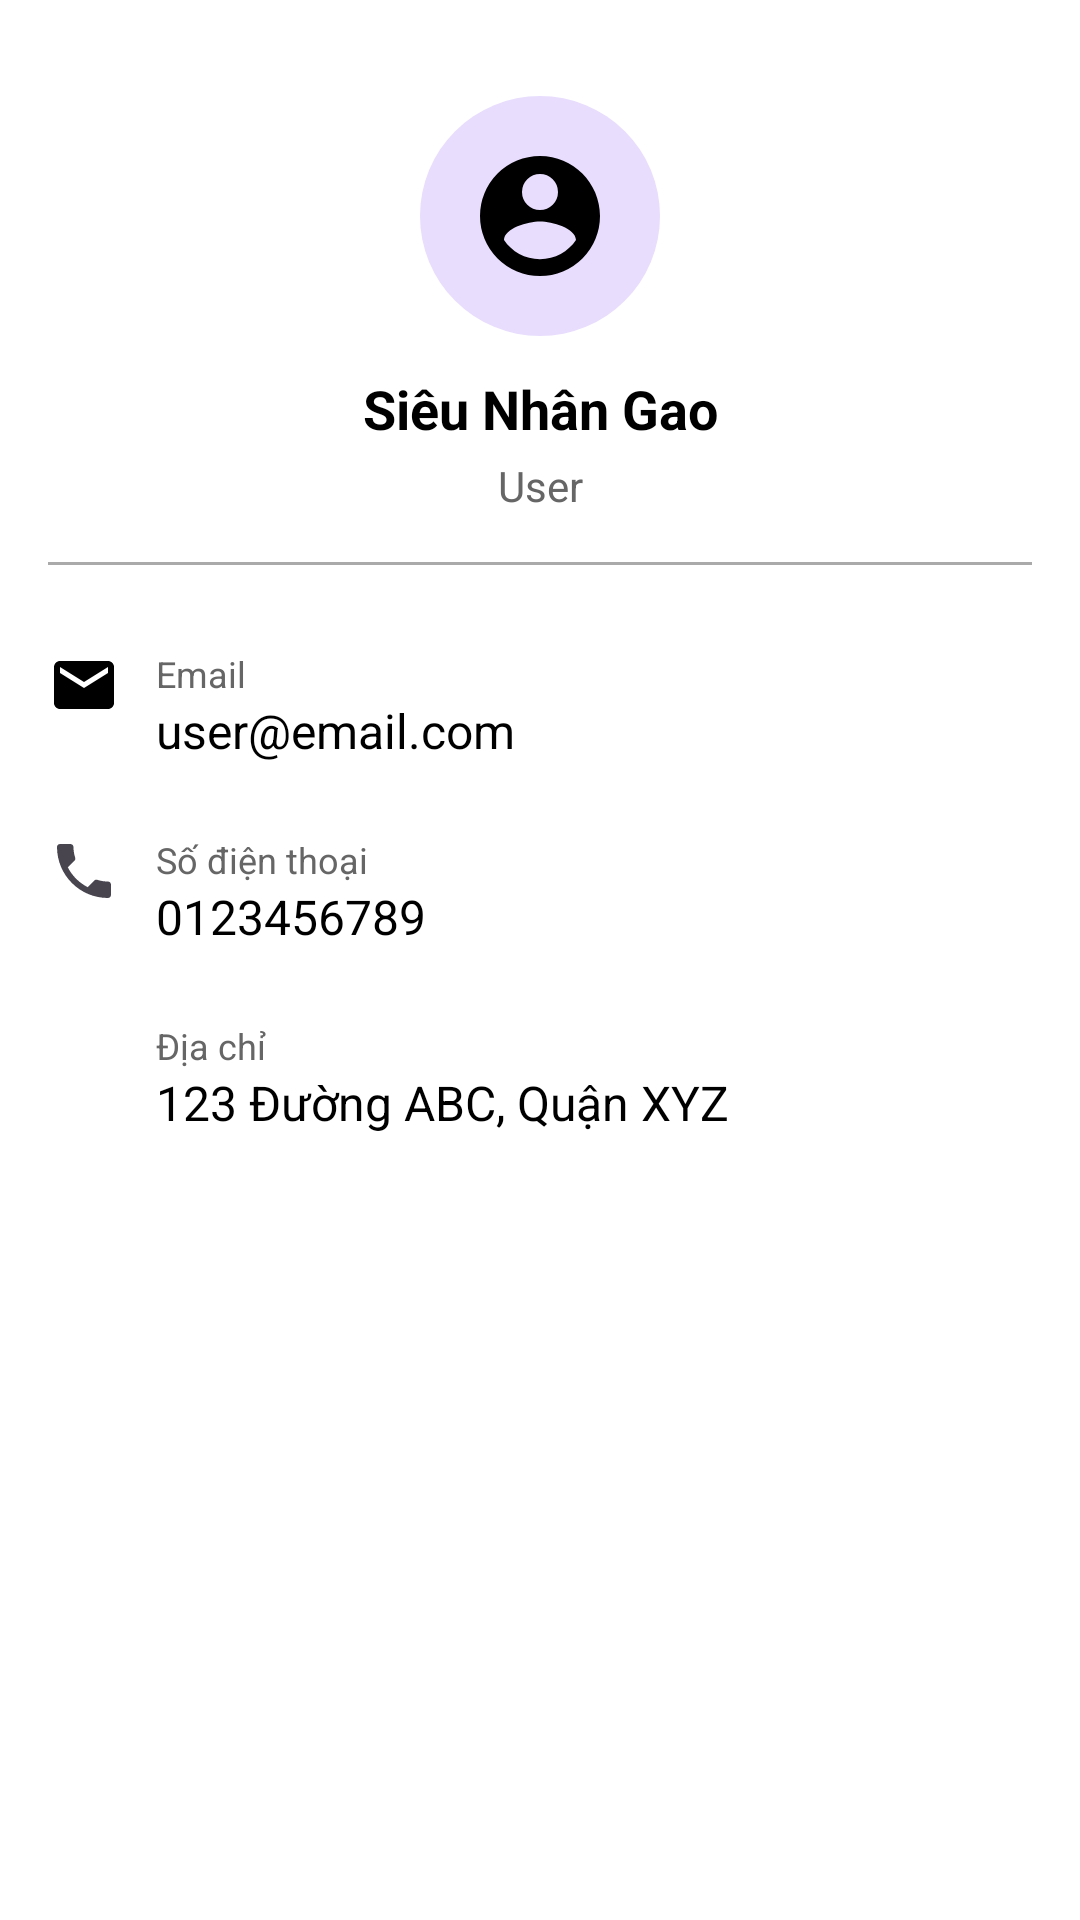

Icons on this 1080 x 1920 Android screen, each with the point to tap as point (x, y):
Avatar: point (540, 216)
phone: point (84, 871)
